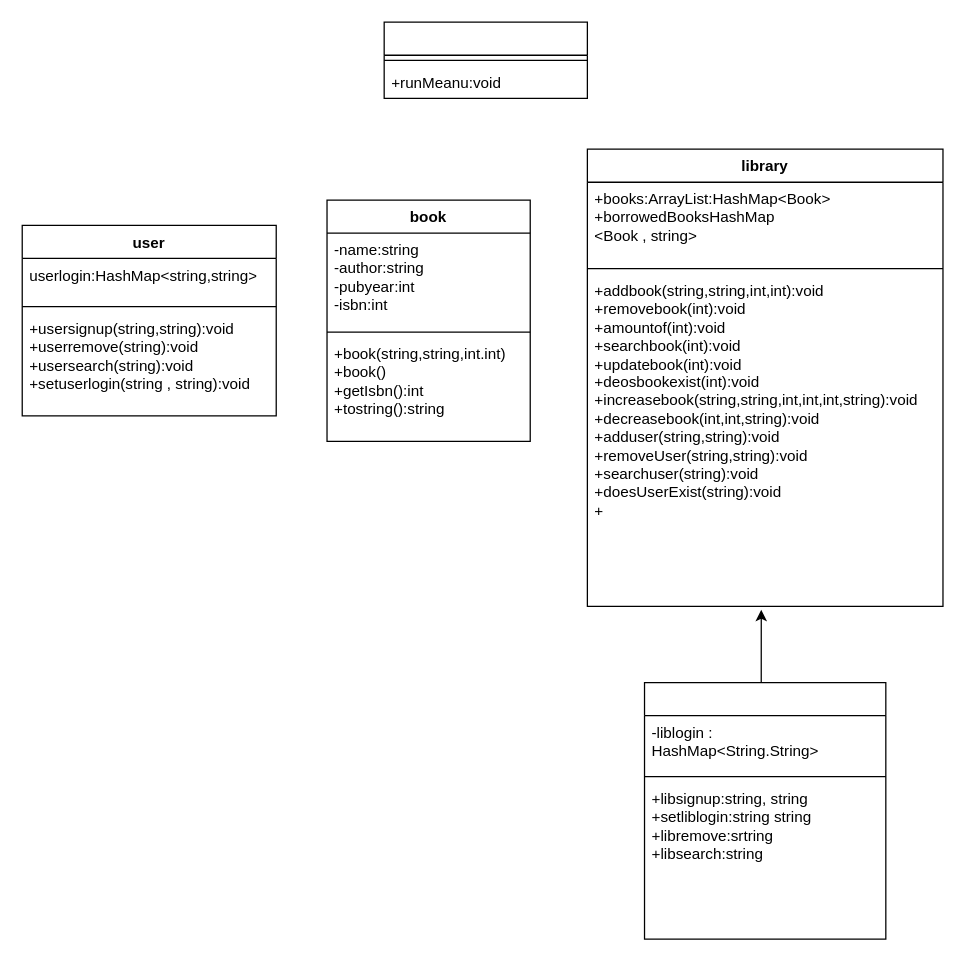
Image size: 965x965. Some labels were removed from this diagram. The box of each missing label's shape, as (x1, y1, x2, y2) in pixels:
Librarian: (643, 681, 886, 939)
main: (383, 21, 587, 98)
